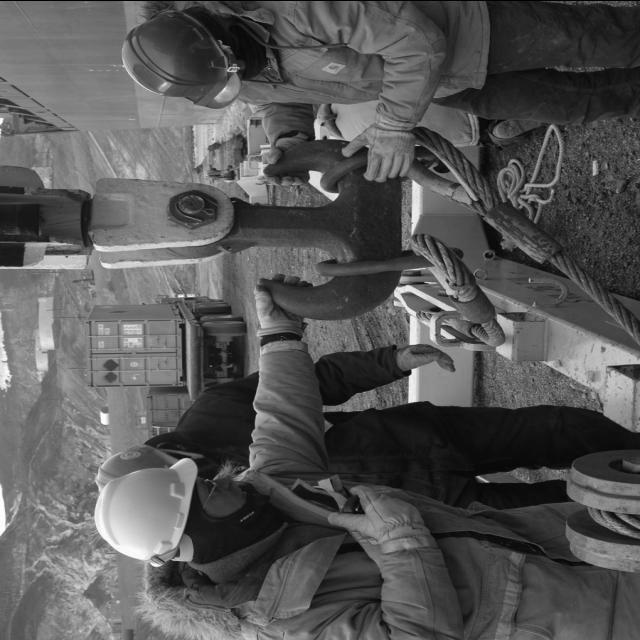construction helmet: (124, 6, 244, 110), (96, 455, 201, 561)
